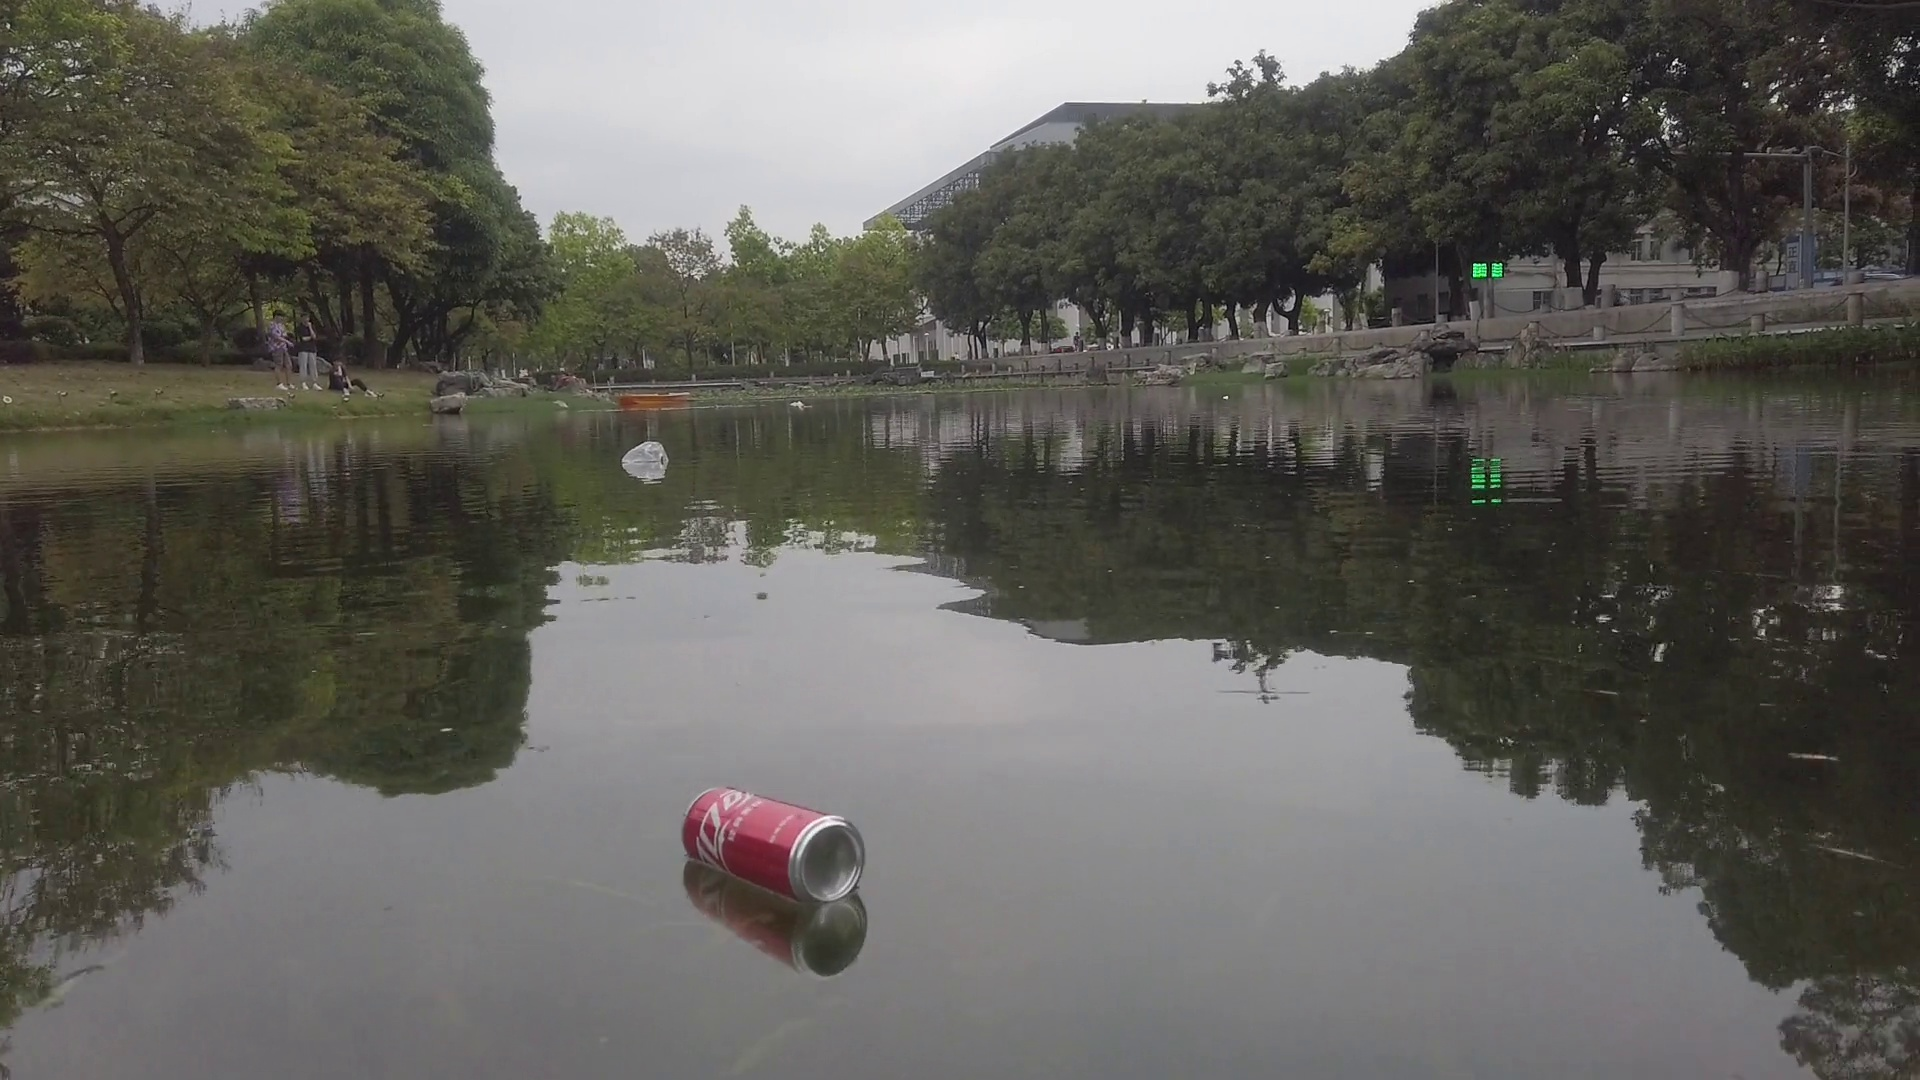bottle: (674, 782, 866, 903)
paper: (1220, 390, 1236, 401)
plastic: (622, 439, 666, 469), (790, 400, 804, 409)
